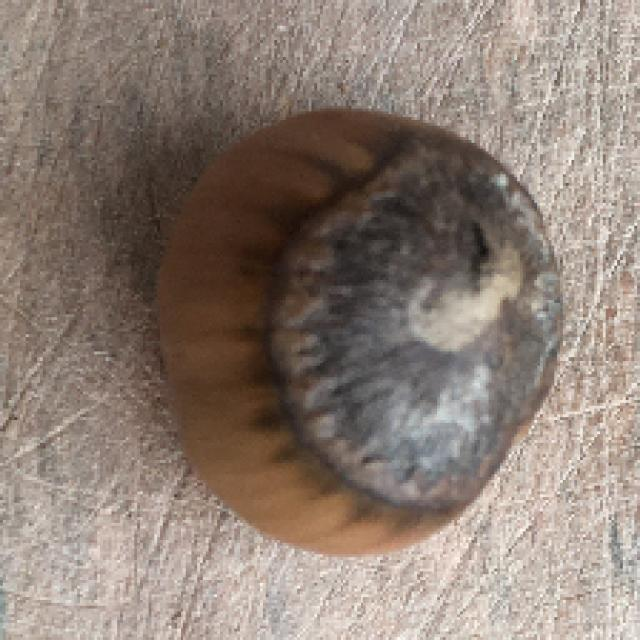DamagedHazelnut: (154, 106, 570, 560)
